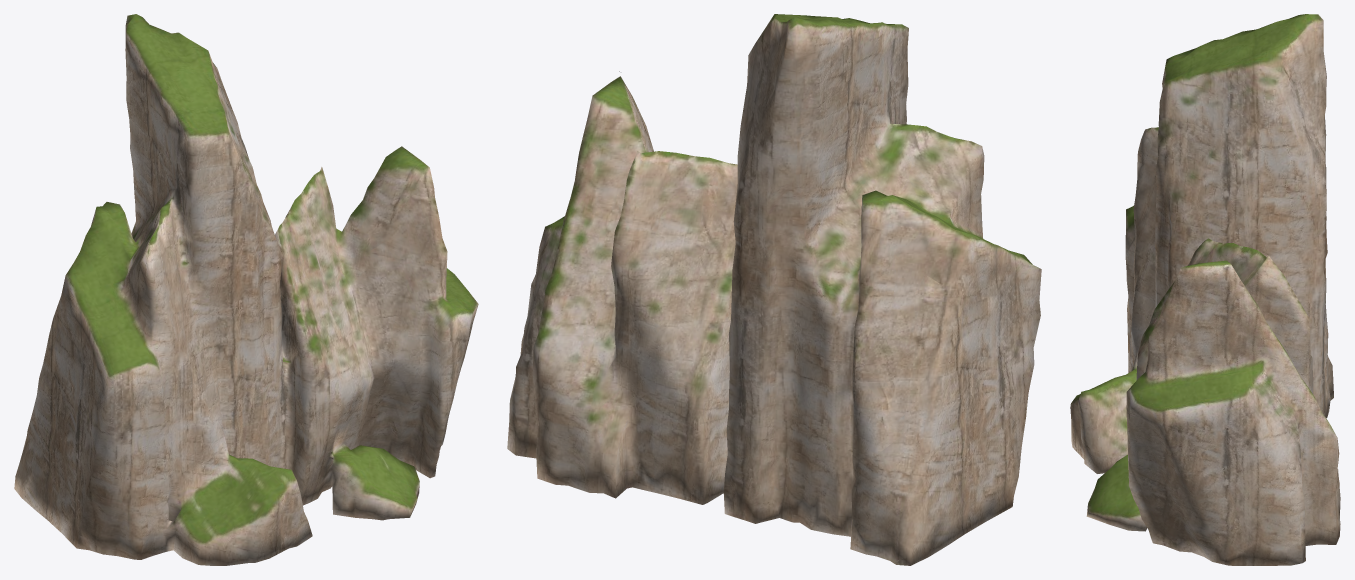
File: klippe-2.glb
3 views of the same model, side by side, from view 1: azimuth 30°, elevation 25°; view 2: azimuth 150°, elevation 25°; view 3: azimuth 270°, elevation 25° (orthographic). The views are drawn at different scales.
Visible parts, largest first — view 1: klippe-2; view 2: klippe-2; view 3: klippe-2.
Boxes of the visible parts, x1=… form: klippe-2: x1=14, y1=14, x2=478, y2=565; klippe-2: x1=507, y1=14, x2=1041, y2=565; klippe-2: x1=1070, y1=14, x2=1340, y2=565.
Size of the model in its own units: 11.56 by 12.88 by 7.32.
Materials: 1 (1 with a texture image).
